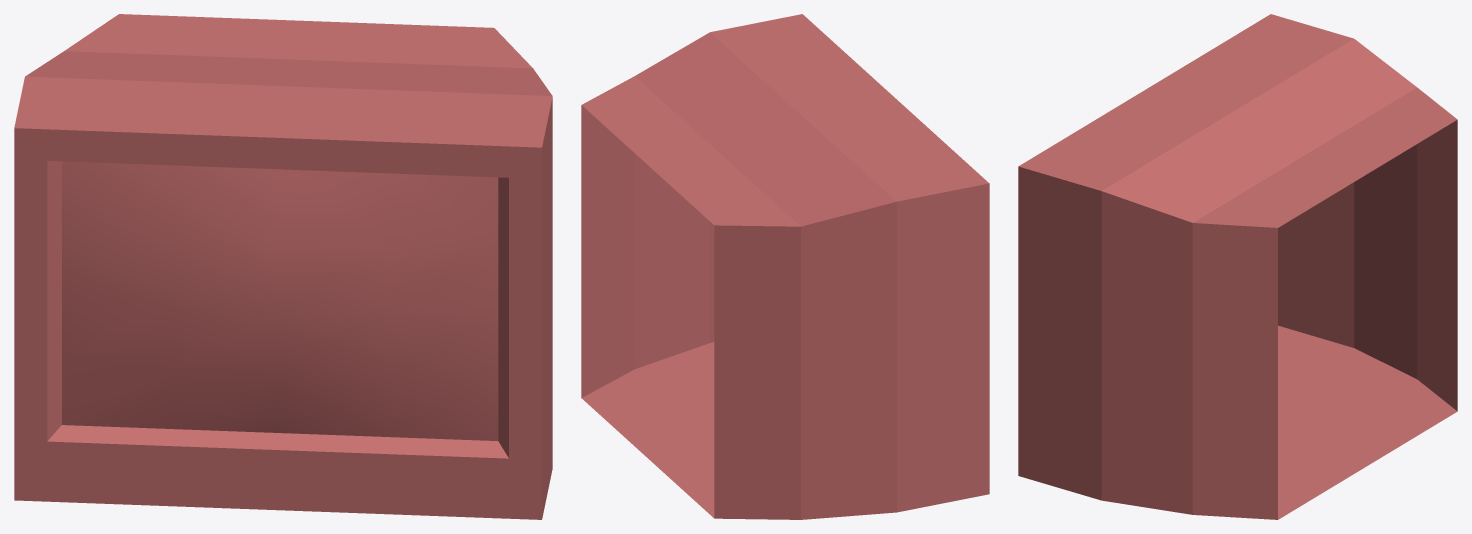
The model's file is Bedroom_TV.fbx.
3 views of the same model, side by side, from view 1: azimuth 30°, elevation 25°; view 2: azimuth 150°, elevation 25°; view 3: azimuth 270°, elevation 25° (orthographic). The views are drawn at different scales.
Parts seen in each view (by area): view 1: tv; view 2: tv; view 3: tv.
Part boxes in pixels (x1,y1,x2,y2): tv: (14, 14, 552, 519); tv: (581, 14, 989, 519); tv: (1018, 14, 1457, 519).
Size of the model in its own units: 7.6 by 5.58 by 7.18.
